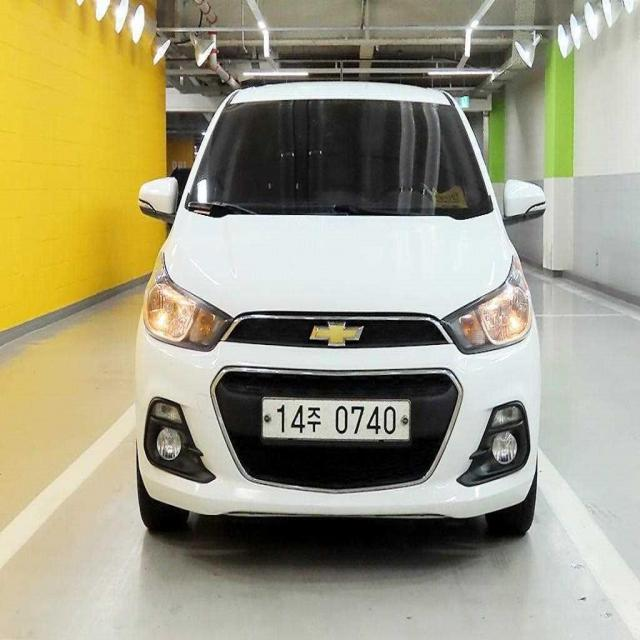car: (130, 73, 568, 561)
illegal_plate: (256, 394, 412, 452)
